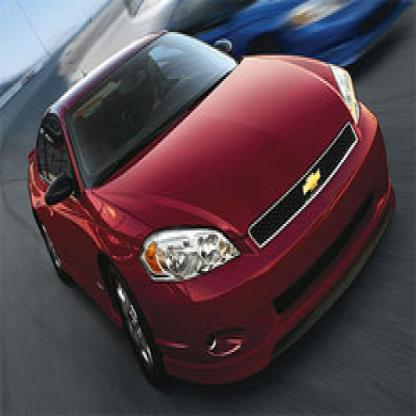Vehicle: (25, 25, 398, 396)
